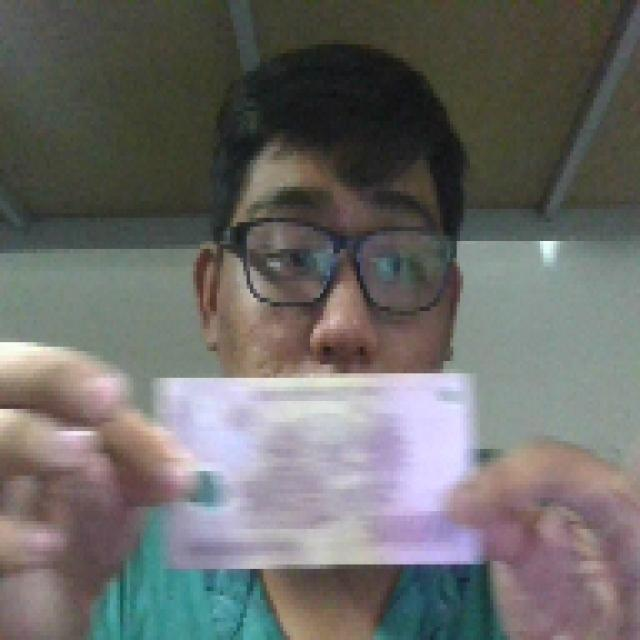50 000 VND: (147, 364, 490, 574)
